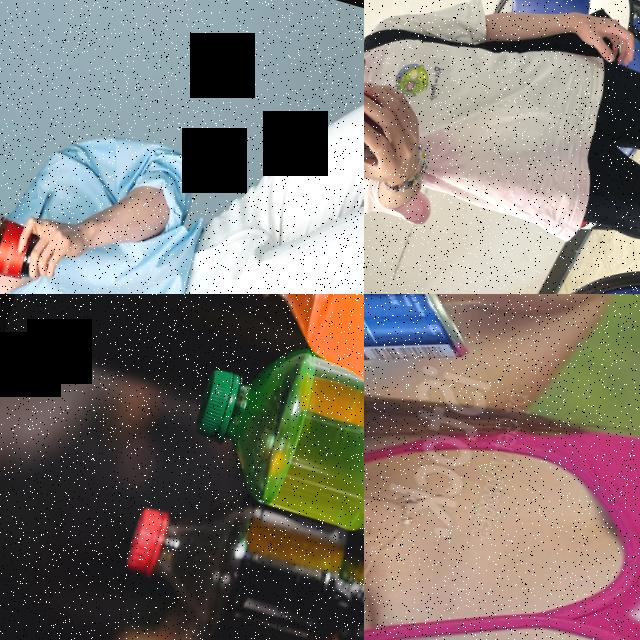bottle: (177, 321, 364, 566), (106, 466, 364, 640)
can: (364, 294, 484, 438)
cup: (0, 204, 54, 292), (364, 55, 400, 177)
